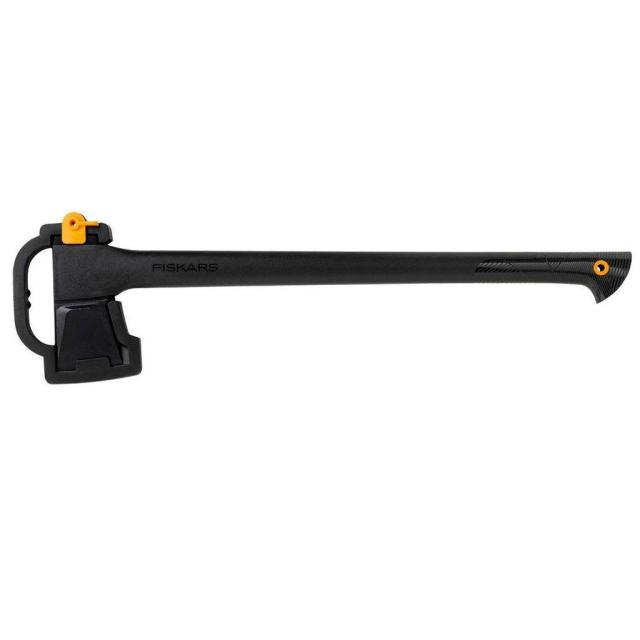Kapak: (22, 198, 640, 394)
